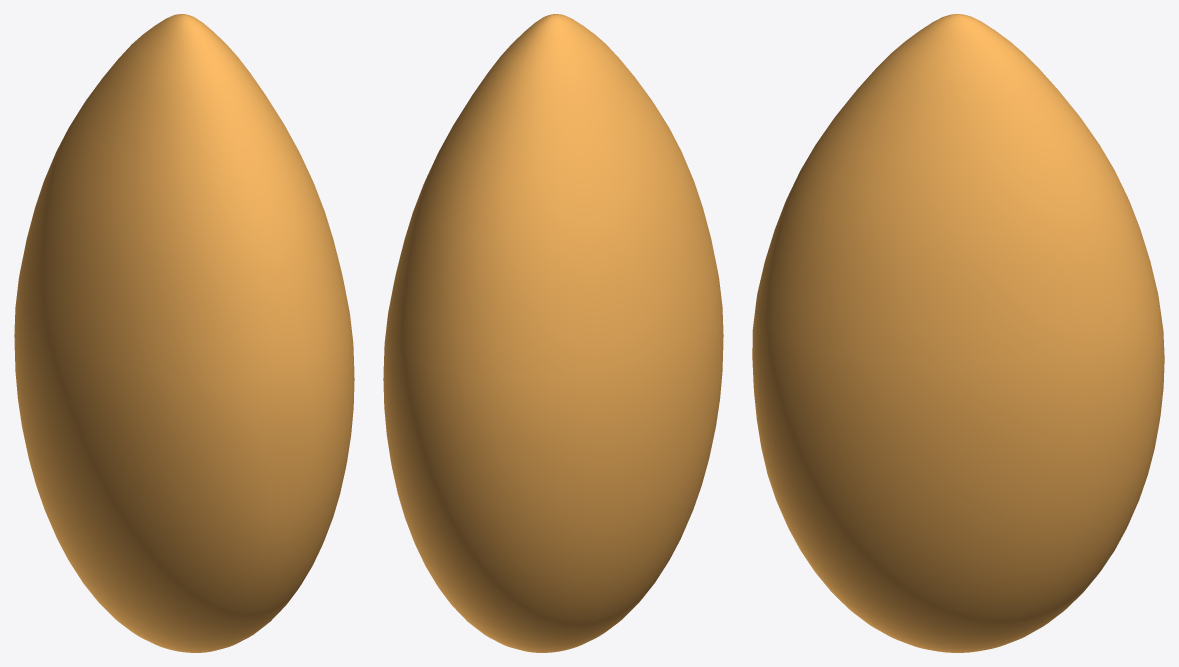
Rendered from Seed.fbx.
3 views of the same model, side by side, from view 1: azimuth 30°, elevation 25°; view 2: azimuth 150°, elevation 25°; view 3: azimuth 270°, elevation 25° (orthographic).
Visible parts, largest first — view 1: Sphere.001; view 2: Sphere.001; view 3: Sphere.001.
Part boxes in pixels (x1=…): Sphere.001: x1=14, y1=14, x2=354, y2=652; Sphere.001: x1=383, y1=14, x2=723, y2=652; Sphere.001: x1=752, y1=14, x2=1164, y2=652.
Bounding box in the file's own units: 85.93 × 190 × 112.
